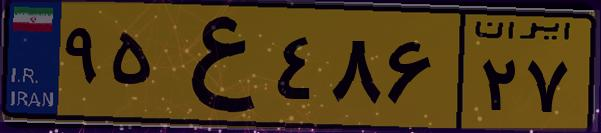2: (475, 38, 525, 113)
4: (270, 28, 330, 110)
5: (110, 28, 158, 98)
6: (385, 28, 445, 110)
7: (525, 38, 570, 115)
8: (330, 28, 385, 110)
9: (57, 26, 110, 100)
ع: (158, 12, 270, 120)
